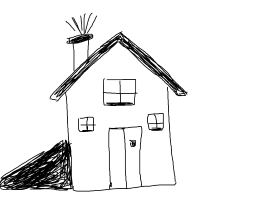closed_window: (98, 73, 144, 109), (73, 114, 100, 137), (142, 109, 166, 134)
door: (105, 122, 148, 190)
shaded_roof: (42, 26, 201, 102)
shadow: (4, 133, 75, 193)
smoking_chimney: (56, 5, 101, 69)
wall: (60, 89, 186, 193)
